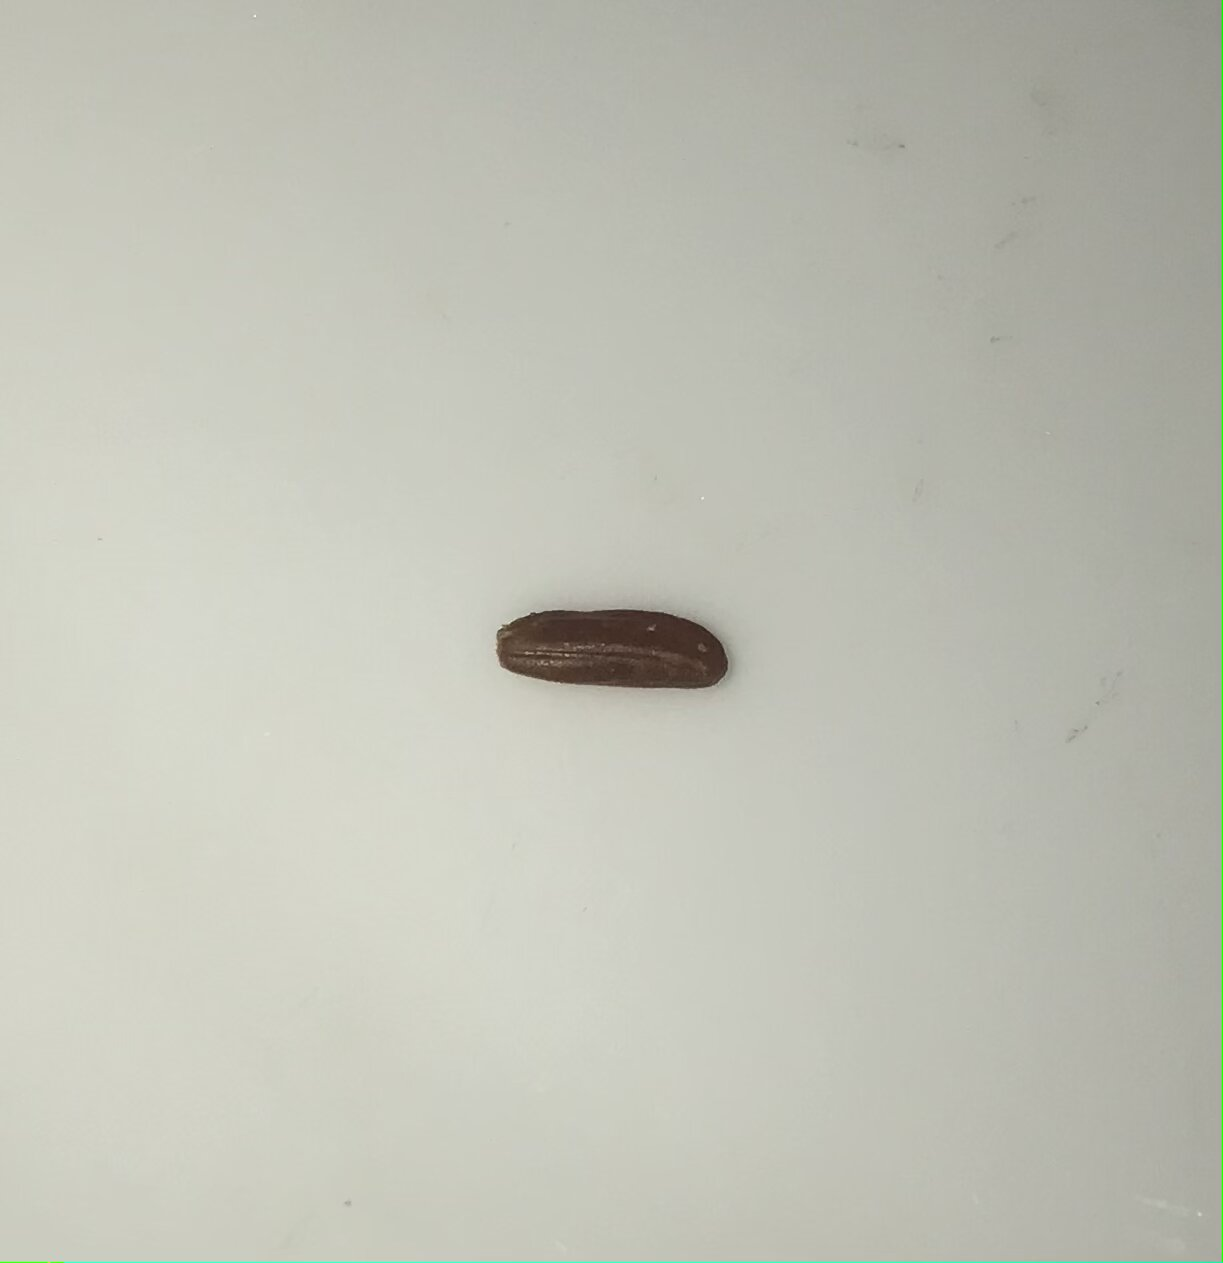Gao Huyet Rong: (494, 600, 734, 703)
